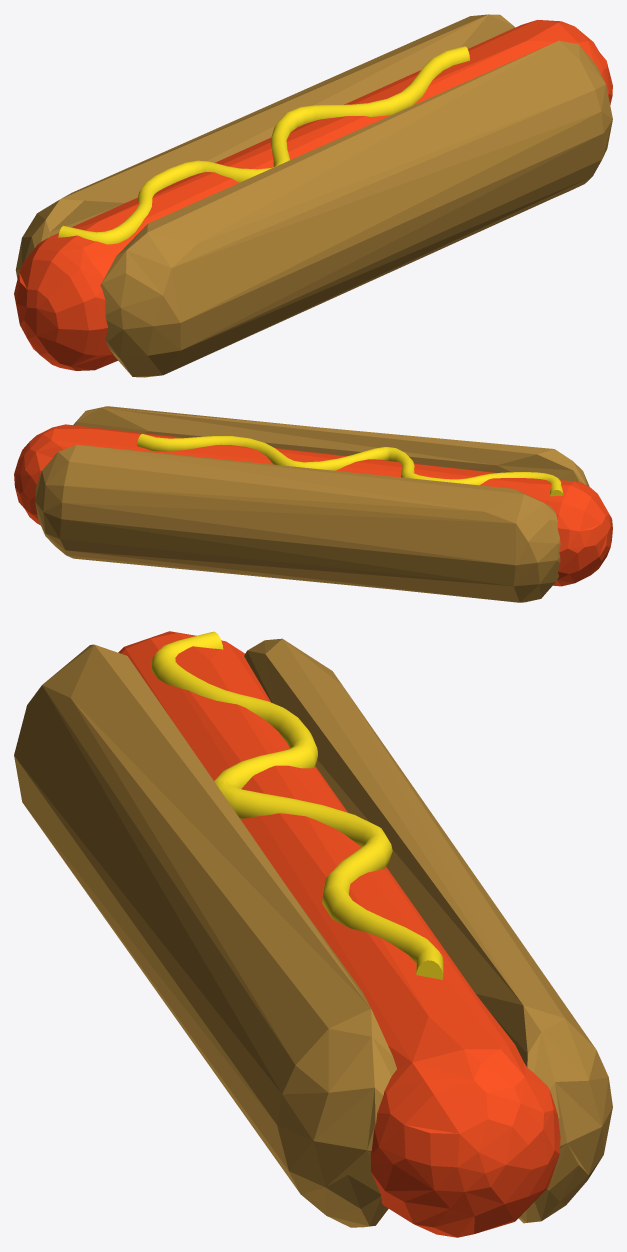
Rendered from e0f4a54d-7dda-483a-ab50-06e89eccadaf.glb.
3 views of the same model, one above another, from view 1: azimuth 30°, elevation 25°; view 2: azimuth 150°, elevation 25°; view 3: azimuth 270°, elevation 25° (orthographic). The views are drawn at different scales.
Visible parts, largest first — view 1: Capsule002, Capsule001, Capsule003, Line001; view 2: Capsule003, Capsule001, Capsule002, Line001; view 3: Capsule002, Capsule001, Capsule003, Line001.
Boxes of the visible parts, x1,y1,x2,y2 form: Capsule002: [100, 40, 612, 377]; Capsule001: [14, 20, 612, 370]; Capsule003: [15, 14, 514, 278]; Line001: [58, 46, 469, 244]; Capsule003: [35, 444, 560, 602]; Capsule001: [14, 424, 612, 586]; Capsule002: [73, 406, 589, 486]; Line001: [137, 434, 563, 496]; Capsule002: [14, 644, 396, 1227]; Capsule001: [118, 631, 560, 1237]; Capsule003: [244, 638, 612, 1223]; Line001: [151, 631, 443, 979].
Bounding box in the file's own units: 1906 × 416 × 990.
